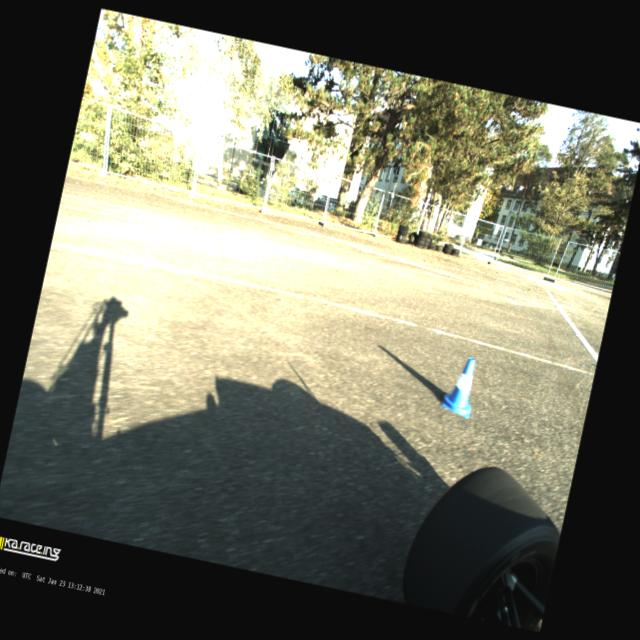blue_cone: (438, 352, 482, 419)
